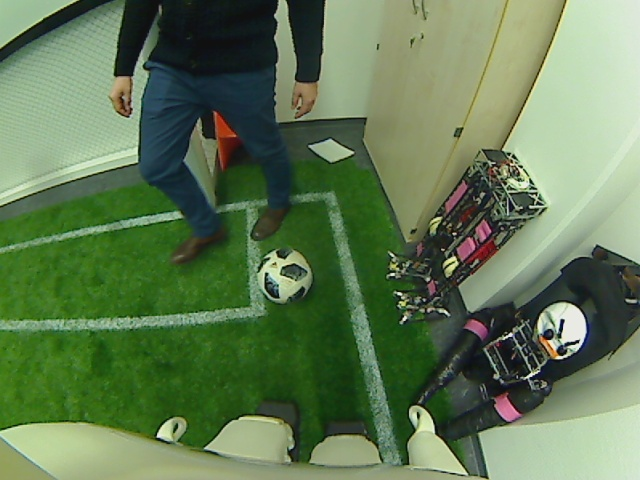ball: (255, 244, 314, 306)
